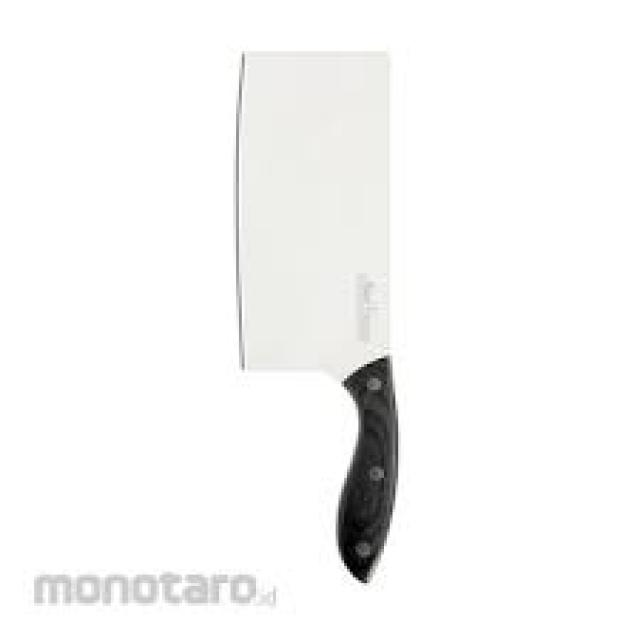Knife: (236, 48, 401, 583)
